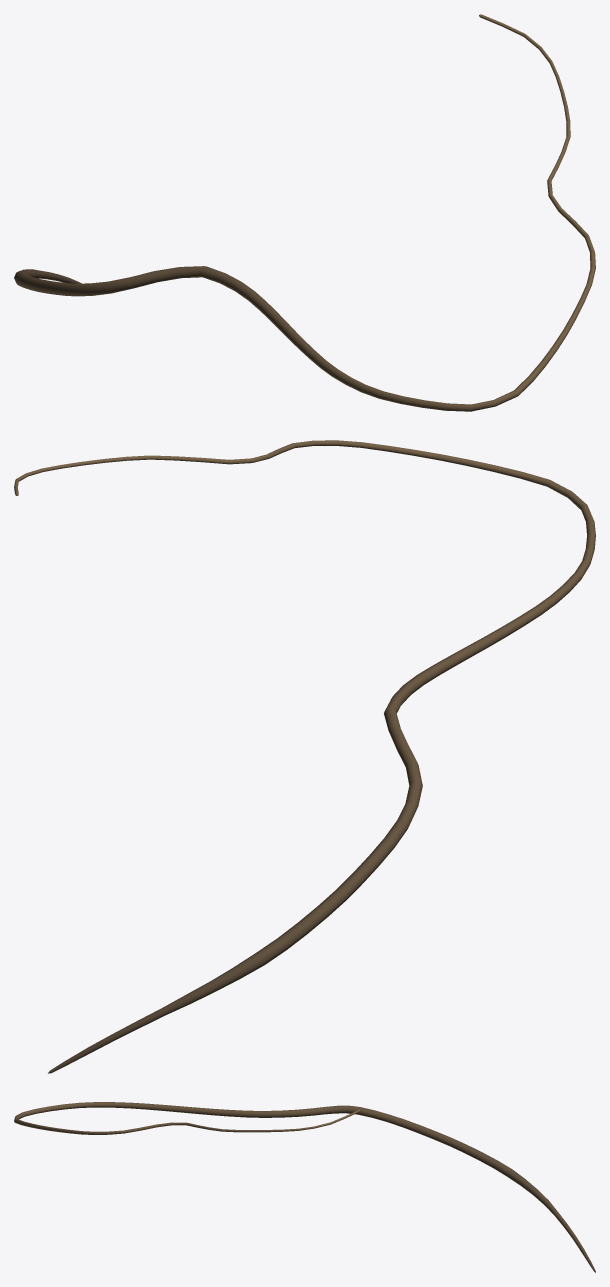
Rendered from microscopic-dust-particles-hair-strand_v4.glb.
3 views of the same model, one above another, from view 1: azimuth 30°, elevation 25°; view 2: azimuth 150°, elevation 25°; view 3: azimuth 270°, elevation 25° (orthographic). The views are drawn at different scales.
Visible parts, largest first — view 1: Hair Strand_v4; view 2: Hair Strand_v4; view 3: Hair Strand_v4.
Part boxes in pixels (box(x1,y1,x2,y2)): Hair Strand_v4: box(14, 14, 595, 411); Hair Strand_v4: box(14, 440, 595, 1073); Hair Strand_v4: box(14, 1102, 595, 1272).
Size of the model in its own units: 0.2657 by 0.2179 by 0.5.
